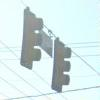traffic lights: (18, 8, 43, 72), (51, 32, 72, 94)
